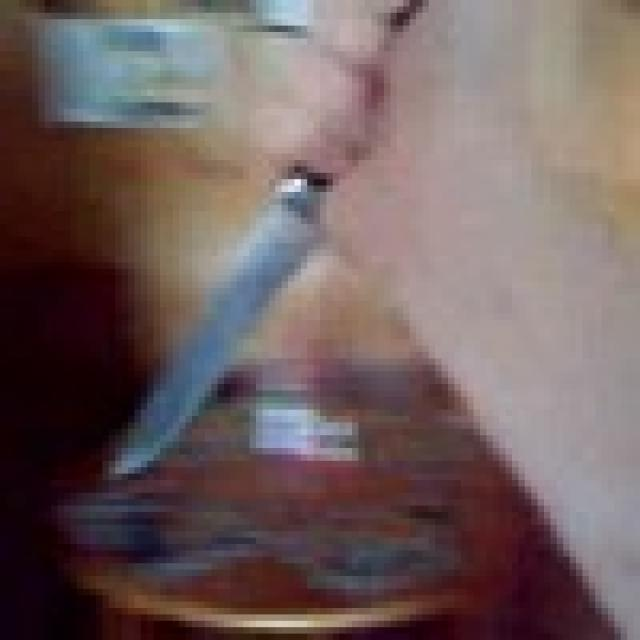Knife_Handle: (109, 0, 512, 480)
